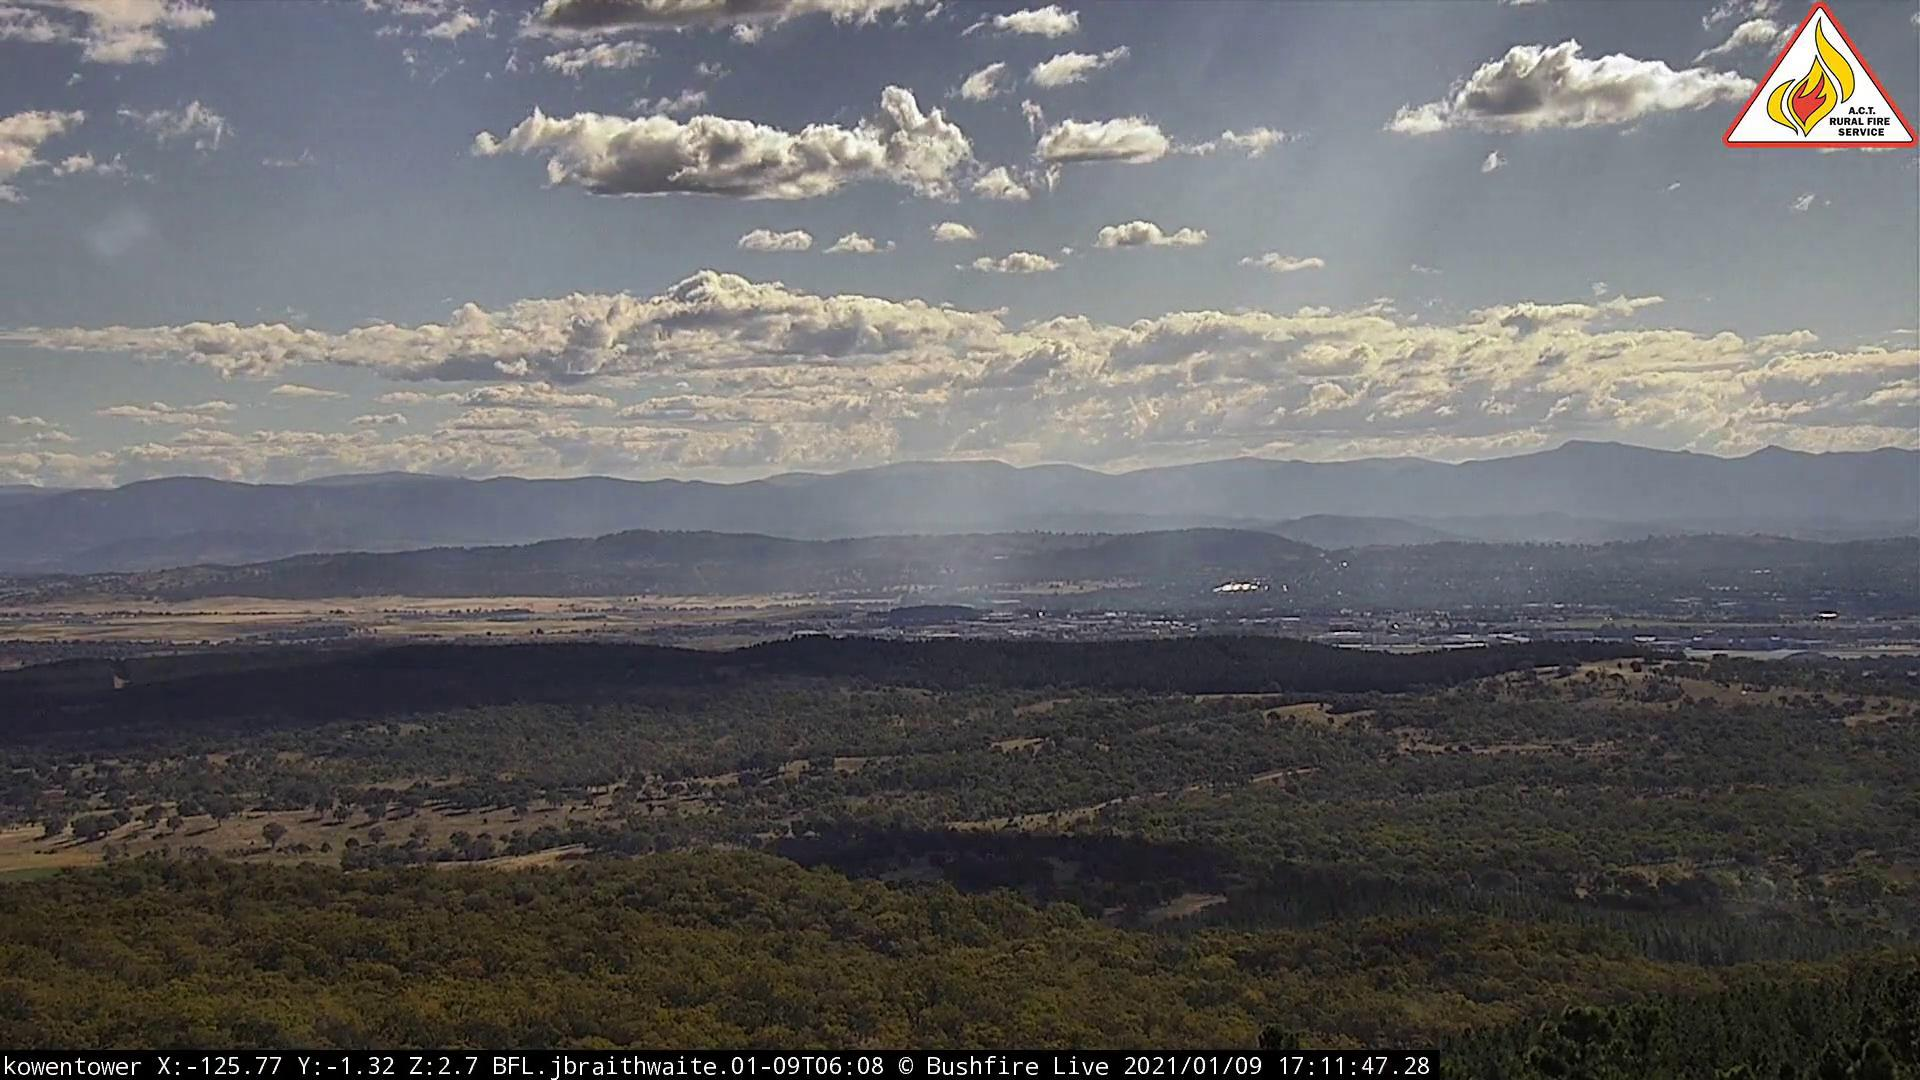instance_salient_object: (779, 530, 993, 622)
